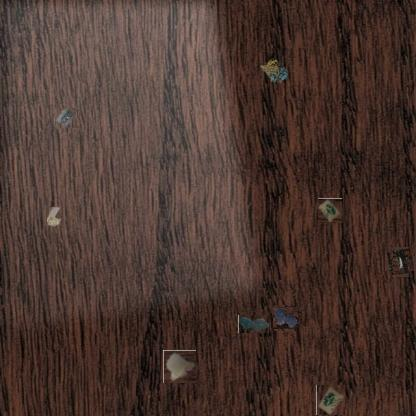dirty: (163, 350, 196, 383), (258, 57, 290, 86), (316, 385, 345, 415), (318, 199, 343, 223), (388, 250, 412, 274), (55, 108, 77, 128), (47, 207, 63, 230)
liquid: (273, 306, 297, 330), (238, 315, 269, 333)
